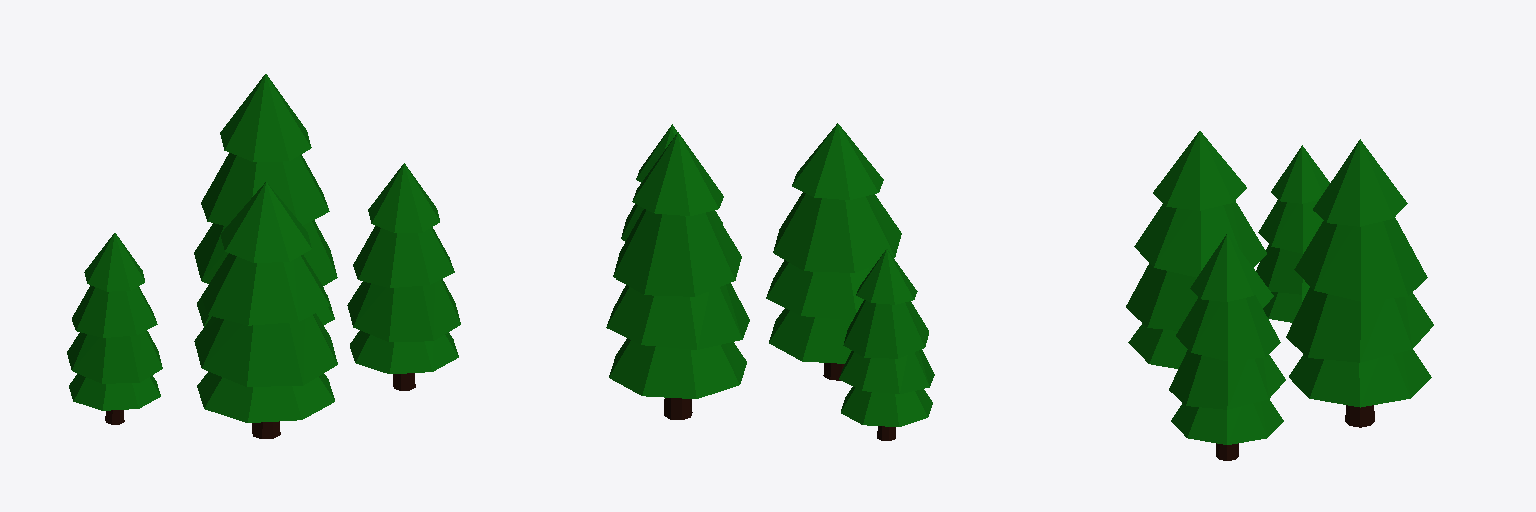
The model's file is Woods_01.obj.
3 views of the same model, side by side, from view 1: azimuth 30°, elevation 25°; view 2: azimuth 150°, elevation 25°; view 3: azimuth 270°, elevation 25° (orthographic).
Parts seen in each view (by area): view 1: Circle_Circle.002; view 2: Circle_Circle.002; view 3: Circle_Circle.002.
Boxes of the visible parts, <box> form: Circle_Circle.002: <box>67,74,460,438</box>; Circle_Circle.002: <box>606,123,934,440</box>; Circle_Circle.002: <box>1126,131,1433,460</box>.
Size of the model in its own units: 13.9 by 10.85 by 10.74.